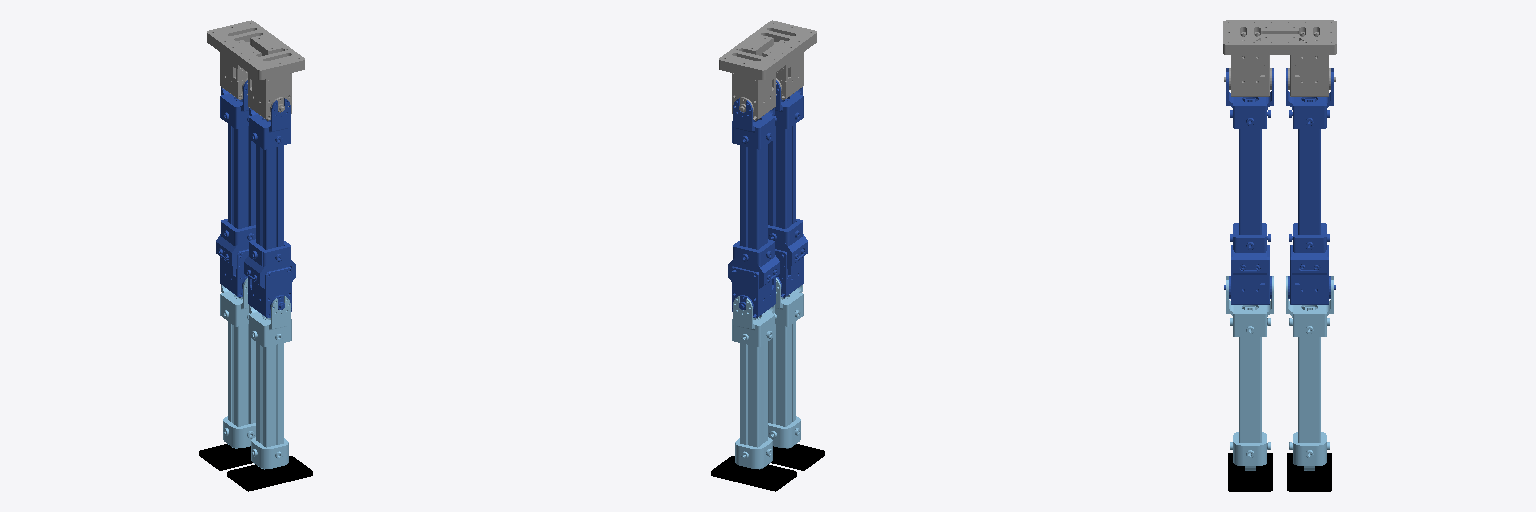
robot.urdf — biped_robot:
<?xml version="1.0" ?>
<!-- Generated using onshape-to-robot -->
<!-- Onshape document_id: a0f70d4c5d7e2df9af20ba50 -->
<robot name="biped_robot">
  <!-- Link hips_asmb -->
  <link name="hips_asmb">
    <inertial>
      <origin xyz="-9.521e-05 0.05 -0.0229961" rpy="0 0 0"/>
      <mass value="0.215313"/>
      <inertia ixx="0.000234409" ixy="-1.55365e-10" ixz="4.98667e-07" iyy="7.94577e-05" iyz="-1.26593e-10" izz="0.000196498"/>
    </inertial>
    <!-- Part hips_asmb -->
    <visual>
      <origin xyz="-6.50521e-19 2.01228e-16 1.04083e-17" rpy="0 -0 0"/>
      <geometry>
        <mesh filename="package://assets/hips_asmb.stl"/>
      </geometry>
      <material name="hips_asmb_material">
        <color rgba="0.647059 0.647059 0.647059 1.0"/>
      </material>
    </visual>
    <collision>
      <origin xyz="-6.50521e-19 2.01228e-16 1.04083e-17" rpy="0 -0 0"/>
      <geometry>
        <mesh filename="package://assets/hips_asmb.stl"/>
      </geometry>
    </collision>
  </link>
  <!-- Link leg_top -->
  <link name="leg_top">
    <inertial>
      <origin xyz="6.1999e-06 0.0191622 -0.134152" rpy="0 0 3.14"/>
      <mass value="0.20726"/>
      <inertia ixx="0.000840912" ixy="5.72332e-08" ixz="-1.04628e-10" iyy="3.21242e-05" iyz="2.69107e-06" izz="0.000837963"/>
    </inertial>
    <!-- Part leg_top -->
    <visual>
      <origin xyz="0 0.019 0" rpy="0 0 3.14"/>
      <geometry>
        <mesh filename="package://assets/leg_top.stl"/>
      </geometry>
      <material name="leg_top_material">
        <color rgba="0.231373 0.380392 0.705882 1.0"/>
      </material>
    </visual>
    <collision>
      <origin xyz="-2.70006e-16 0 0.019" rpy="-1.5708 7.76488e-76 0"/>
      <geometry>
        <mesh filename="package://assets/leg_top.stl"/>
      </geometry>
    </collision>
  </link>
  <!-- Link leg_bottom -->
  <link name="leg_bottom">
    <inertial>
      <origin xyz="4.81e-06 0.0189795 -0.0892789" rpy="0 0 3.14"/>
      <mass value="0.112193"/>
      <inertia ixx="0.000313451" ixy="-4.49773e-09" ixz="-1.198e-11" iyy="1.49078e-05" iyz="4.14191e-07" izz="0.000312486"/>
    </inertial>
    <!-- Part leg_bottom -->
    <visual>
      <origin xyz="0 0.019 0" rpy="0 0 3.14"/>
      <geometry>
        <mesh filename="package://assets/leg_bottom.stl"/>
      </geometry>
      <material name="leg_bottom_material">
        <color rgba="0.615686 0.811765 0.929412 1.0"/>
      </material>
    </visual>
    <collision>
      <origin xyz="-8.965e-18 0 0.019" rpy="-1.5708 -8.53003e-23 1.41709e-54"/>
      <geometry>
        <mesh filename="package://assets/leg_bottom.stl"/>
      </geometry>
    </collision>
  </link>
  <!-- Link feet -->
  <link name="feet">
    <inertial>
      <origin xyz="6.71916e-05 -2.057e-10 -0.004137" rpy="0 0 0"/>
      <mass value="0.021285"/>
      <inertia ixx="2.63936e-06" ixy="-1.90418e-09" ixz="-1.36223e-13" iyy="8.08043e-06" iyz="2.33434e-15" izz="5.95948e-06"/>
    </inertial>
    <!-- Part feet -->
    <visual>
      <origin xyz="2.20516e-05 -9.71445e-17 -0.009" rpy="0 0 0"/>
      <geometry>
        <mesh filename="package://assets/feet.stl"/>
      </geometry>
      <material name="feet_material">
        <color rgba="0 0 0 1.0"/>
      </material>
    </visual>
    <collision>
      <origin xyz="2.20516e-05 0.009 -9.71445e-17" rpy="1.5708 -1.56108e-29 -1.91788e-47"/>
      <geometry>
        <mesh filename="package://assets/feet.stl"/>
      </geometry>
    </collision>
  </link>
  <!-- Joint from leg_bottom to feet -->
  <joint name="ankle_left" type="revolute">
    <origin xyz="0 0.019 -0.17201" rpy="0 0 0"/>
    <parent link="leg_bottom"/>
    <child link="feet"/>
    <axis xyz="0 1 0"/>
    <limit effort="10" velocity="10" lower="-3.141592653589793" upper="3.141592653589793"/>
  </joint>
  <!-- Joint from leg_top to leg_bottom -->
  <joint name="knee_left" type="revolute">
    <origin xyz="1e-05 -1e-05 -0.20125" rpy="0 0 0"/>
    <parent link="leg_top"/>
    <child link="leg_bottom"/>
    <axis xyz="0 1 0"/>
    <limit effort="10" velocity="10" lower="-3.141592653589793" upper="3.141592653589793"/>
  </joint>
  <!-- Joint from hips_asmb to leg_top -->
  <joint name="hip_left" type="revolute">
    <origin xyz="-9.52106e-08 0.057 -0.04025" rpy="0 0 0"/>
    <parent link="hips_asmb"/>
    <child link="leg_top"/>
    <axis xyz="0 1 0"/>
    <limit effort="10" velocity="10" lower="-3.141592653589793" upper="3.141592653589793"/>
  </joint>
  <!-- Link leg_top_2 -->
  <link name="leg_top_2">
    <inertial>
      <origin xyz="6.1999e-06 -0.0191622 -0.134152" rpy="0 0 0"/>
      <mass value="0.20726"/>
      <inertia ixx="0.000840912" ixy="-5.72332e-08" ixz="1.04628e-10" iyy="3.21242e-05" iyz="2.69107e-06" izz="0.000837963"/>
    </inertial>
    <!-- Part leg_top_2 -->
    <visual>
      <origin xyz="-2.70006e-16 -0.019 0" rpy="0 0 0"/>
      <geometry>
        <mesh filename="package://assets/leg_top.stl"/>
      </geometry>
      <material name="leg_top_2_material">
        <color rgba="0.231373 0.380392 0.705882 1.0"/>
      </material>
    </visual>
    <collision>
      <origin xyz="-2.70006e-16 -0.019 0" rpy="0 0 0"/>
      <geometry>
        <mesh filename="package://assets/leg_top.stl"/>
      </geometry>
    </collision>
  </link>
  <!-- Link leg_bottom_2 -->
  <link name="leg_bottom_2">
    <inertial>
      <origin xyz="4.81e-06 -0.0189795 -0.0892789" rpy="0 0 0"/>
      <mass value="0.112193"/>
      <inertia ixx="0.000313451" ixy="4.49773e-09" ixz="1.198e-11" iyy="1.49078e-05" iyz="4.14191e-07" izz="0.000312486"/>
    </inertial>
    <!-- Part leg_bottom_2 -->
    <visual>
      <origin xyz="-8.96669e-18 -0.019 0" rpy="0 0 0"/>
      <geometry>
        <mesh filename="package://assets/leg_bottom.stl"/>
      </geometry>
      <material name="leg_bottom_2_material">
        <color rgba="0.615686 0.811765 0.929412 1.0"/>
      </material>
    </visual>
    <collision>
      <origin xyz="-8.96669e-18 0 -0.019" rpy="1.5708 8.53003e-23 3.88938e-62"/>
      <geometry>
        <mesh filename="package://assets/leg_bottom.stl"/>
      </geometry>
    </collision>
  </link>
  <!-- Link feet_2 -->
  <link name="feet_2">
    <inertial>
      <origin xyz="6.71916e-05 -2.057e-10 -0.004137" rpy="0 0 0"/>
      <mass value="0.021285"/>
      <inertia ixx="2.63936e-06" ixy="-1.90418e-09" ixz="-1.36223e-13" iyy="8.08043e-06" iyz="2.33434e-15" izz="5.95948e-06"/>
    </inertial>
    <!-- Part feet_2 -->
    <visual>
      <origin xyz="2.20516e-05 -9.02056e-17 -0.009" rpy="0 0 0"/>
      <geometry>
        <mesh filename="package://assets/feet.stl"/>
      </geometry>
      <material name="feet_2_material">
        <color rgba="0 0 0 1.0"/>
      </material>
    </visual>
    <collision>
      <origin xyz="2.20516e-05 0.009 -9.02056e-17" rpy="1.5708 -1.56047e-29 -1.74109e-47"/>
      <geometry>
        <mesh filename="package://assets/feet.stl"/>
      </geometry>
    </collision>
  </link>
  <!-- Joint from leg_bottom_2 to feet_2 -->
  <joint name="ankle_right" type="revolute">
    <origin xyz="9.31476e-15 -0.019 -0.17201" rpy="0 0 0"/>
    <parent link="leg_bottom_2"/>
    <child link="feet_2"/>
    <axis xyz="0 1 0"/>
    <limit effort="10" velocity="10" lower="-3.141592653589793" upper="3.141592653589793"/>
  </joint>
  <!-- Joint from leg_top_2 to leg_bottom_2 -->
  <joint name="knee_right" type="revolute">
    <origin xyz="1e-05 -1e-05 -0.20125" rpy="0 0 0"/>
    <parent link="leg_top_2"/>
    <child link="leg_bottom_2"/>
    <axis xyz="0 1 0"/>
    <limit effort="10" velocity="10" lower="-3.141592653589793" upper="3.141592653589793"/>
  </joint>
  <!-- Joint from hips_asmb to leg_top_2 -->
  <joint name="hip_right" type="revolute">
    <origin xyz="-9.52106e-08 0.043 -0.04025" rpy="0 0 0"/>
    <parent link="hips_asmb"/>
    <child link="leg_top_2"/>
    <axis xyz="0 1 0"/>
    <limit effort="10" velocity="10" lower="-3.141592653589793" upper="3.141592653589793"/>
  </joint>
</robot>

--- Render facts (derived) ---
The picture shows the robot from 3 angles, left to right: view 1: azimuth 30°, elevation 25°; view 2: azimuth 150°, elevation 25°; view 3: azimuth 270°, elevation 25°; orthographic projection.
Robot: biped_robot — 7 links, 6 joints (6 revolute); root link hips_asmb; default pose: all joints at 0.
Visible links, largest first — view 1: leg_top_2, hips_asmb, leg_top, leg_bottom_2, leg_bottom, feet_2, feet; view 2: leg_top, hips_asmb, leg_top_2, leg_bottom, leg_bottom_2, feet, feet_2; view 3: hips_asmb, leg_top, leg_top_2, leg_bottom, leg_bottom_2, feet, feet_2.
Link boxes in pixels (<box>): leg_top_2: <box>244,98,295,317</box>; hips_asmb: <box>207,20,304,120</box>; leg_top: <box>216,80,255,297</box>; leg_bottom_2: <box>249,296,291,469</box>; leg_bottom: <box>220,278,255,448</box>; feet_2: <box>227,456,312,491</box>; feet: <box>199,444,252,470</box>; leg_top: <box>728,98,779,317</box>; hips_asmb: <box>719,20,816,120</box>; leg_top_2: <box>768,80,807,297</box>; leg_bottom: <box>732,296,774,469</box>; leg_bottom_2: <box>768,278,803,448</box>; feet: <box>711,456,796,491</box>; feet_2: <box>771,444,824,470</box>; hips_asmb: <box>1223,20,1336,96</box>; leg_top: <box>1286,68,1335,304</box>; leg_top_2: <box>1224,68,1273,304</box>; leg_bottom: <box>1286,276,1333,470</box>; leg_bottom_2: <box>1226,276,1273,470</box>; feet: <box>1287,453,1331,491</box>; feet_2: <box>1228,453,1272,491</box>.
Size in the robot's own frame: 0.07 by 0.1 by 0.4275 metres.
7 mesh visuals loaded from 4 distinct referenced files (4 binary STL).
